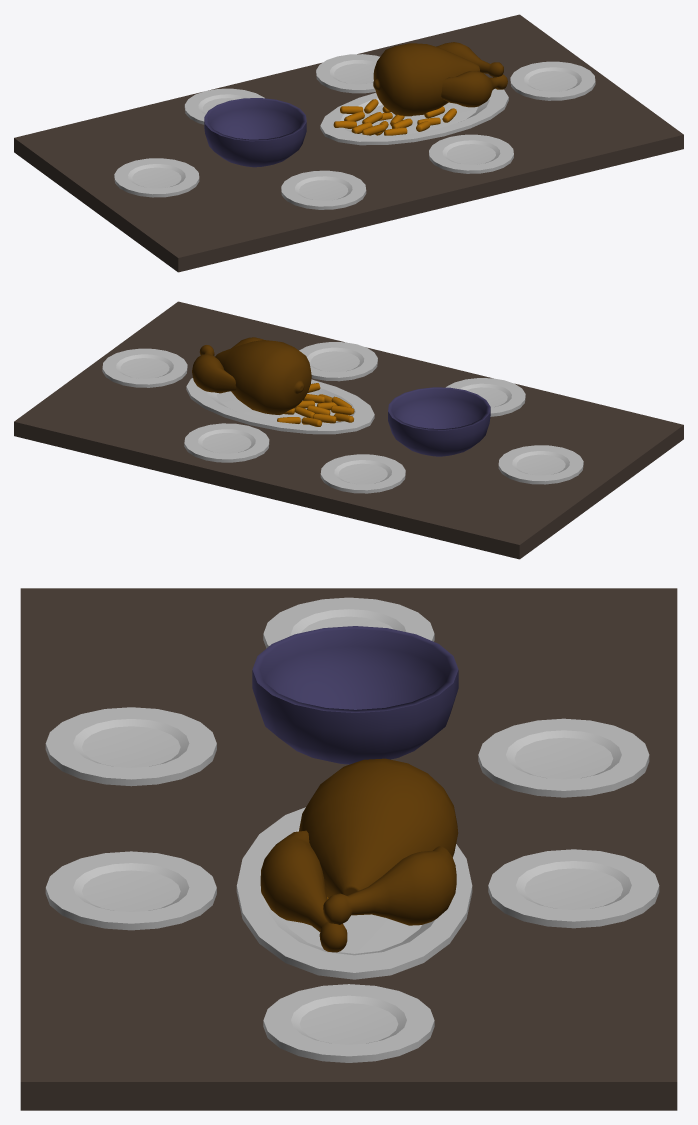
File: dinnerTable.fbx
3 views of the same model, one above another, from view 1: azimuth 30°, elevation 25°; view 2: azimuth 150°, elevation 25°; view 3: azimuth 270°, elevation 25° (orthographic). The views are drawn at different scales.
Visible parts, largest first — view 1: polySurface40; view 2: polySurface40; view 3: polySurface40.
Boxes of the visible parts, <box> form: polySurface40: <box>14,14,683,272</box>; polySurface40: <box>14,301,683,559</box>; polySurface40: <box>20,588,677,1110</box>.
Bounding box in the file's own units: 8 × 1.23 × 4.5.
